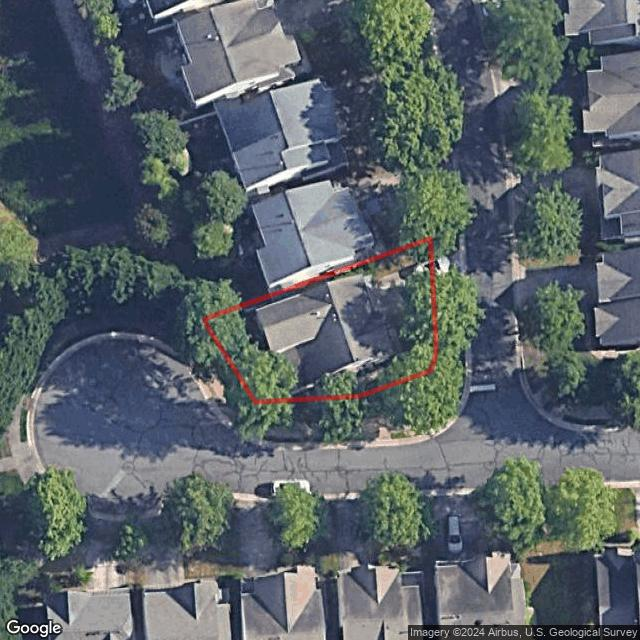Driveway: (374, 260, 436, 352)
Extra-Driveway: (432, 247, 471, 339)
Extra-Lawn: (205, 319, 465, 427), (205, 383, 378, 441), (430, 225, 459, 260), (392, 430, 425, 440)
Extra-Sidewalk: (209, 371, 449, 441)
House: (257, 273, 395, 392)
Lawn: (205, 239, 437, 403)
